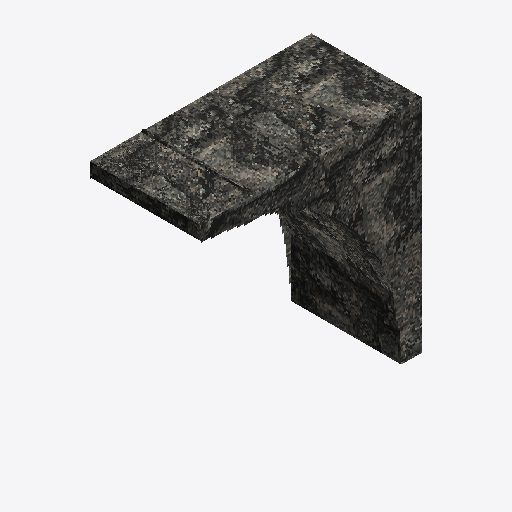
A Minecraft block model of 11 cuboids, rendered isometrically (azimuth 45°, elevation 35.3°) with the resource pack's own textures.
Visible parts, largest first — element 1, element 3, element 2, element 6, element 7, element 10, element 9.
Boxes of the visible parts, x1=… form: element 1: x1=201, y1=98, x2=421, y2=363; element 3: x1=201, y1=33, x2=421, y2=160; element 2: x1=91, y1=97, x2=310, y2=224; element 6: x1=291, y1=234, x2=400, y2=363; element 7: x1=281, y1=209, x2=392, y2=291; element 10: x1=90, y1=134, x2=239, y2=240; element 9: x1=141, y1=129, x2=255, y2=194.
Size of the model in its own units: 32.05 by 32.24 by 16.